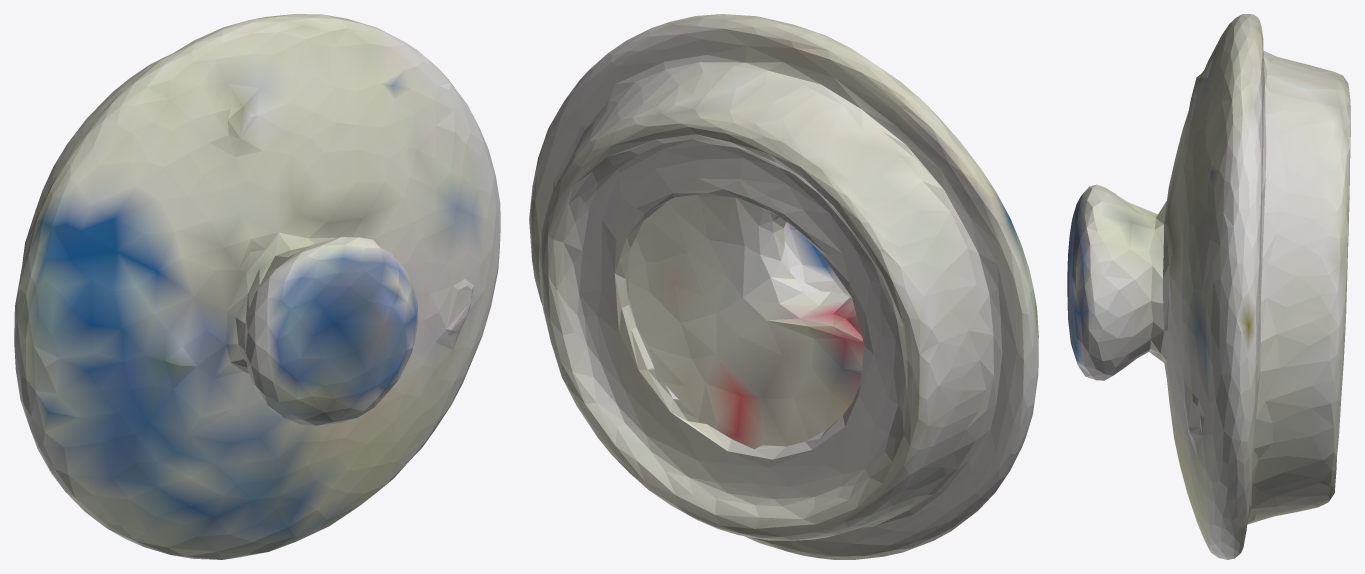
File: scan.obj
3 views of the same model, side by side, from view 1: azimuth 30°, elevation 25°; view 2: azimuth 150°, elevation 25°; view 3: azimuth 270°, elevation 25° (orthographic). The views are drawn at different scales.
Parts seen in each view (by area): view 1: scan.ply; view 2: scan.ply; view 3: scan.ply.
Part boxes in pixels (box(x1,y1,x2,y2)): scan.ply: box(14, 14, 500, 559); scan.ply: box(529, 14, 1038, 559); scan.ply: box(1067, 14, 1350, 559).
Bounding box in the file's own units: 0.0827 × 0.0847 × 0.0436.
